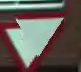Give way: (2, 10, 66, 69)
